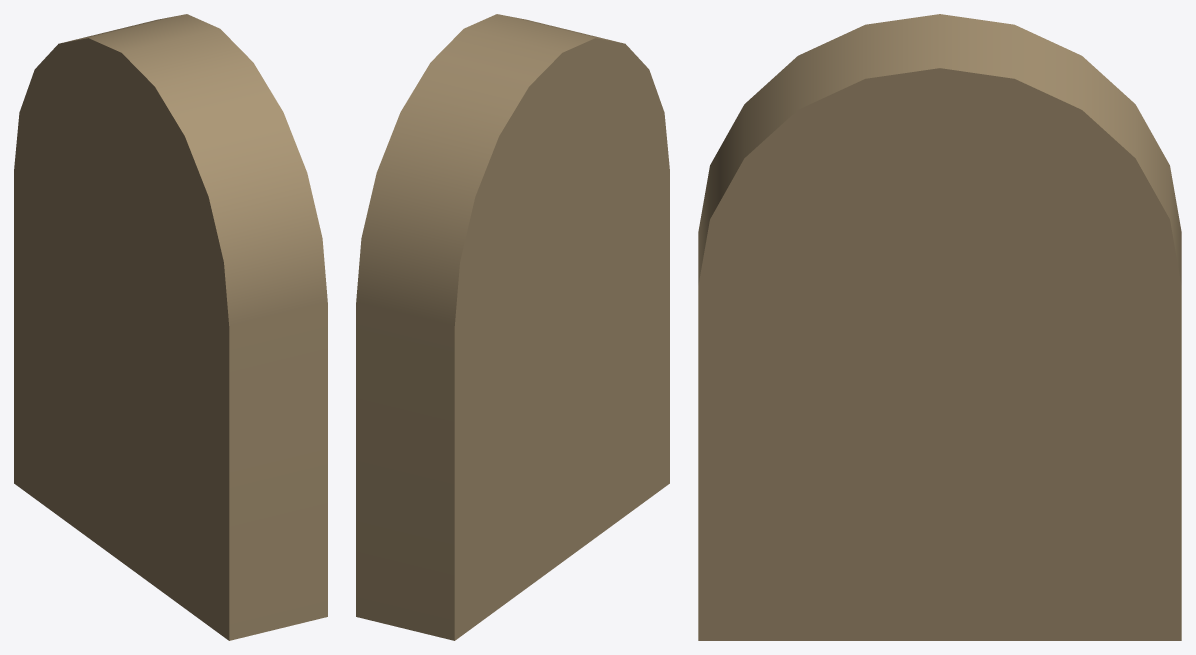
Rendered from DamPropPipeHolder.fbx.
The picture shows the model from 3 angles, left to right: view 1: azimuth 30°, elevation 25°; view 2: azimuth 150°, elevation 25°; view 3: azimuth 270°, elevation 25°; orthographic projection. The views are drawn at different scales.
Visible parts, largest first — view 1: PipeHolder; view 2: PipeHolder; view 3: PipeHolder.
Boxes of the visible parts, x1,y1,x2,y2 form: PipeHolder: [14, 14, 327, 640]; PipeHolder: [356, 14, 669, 640]; PipeHolder: [698, 14, 1181, 640].
Bounding box in the file's own units: 0.2026 × 1 × 0.7652.
